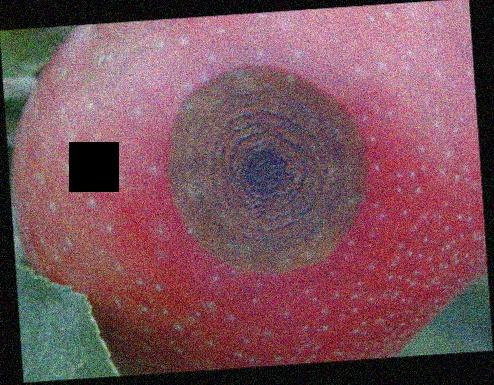rotten apple: (16, 16, 475, 362)
